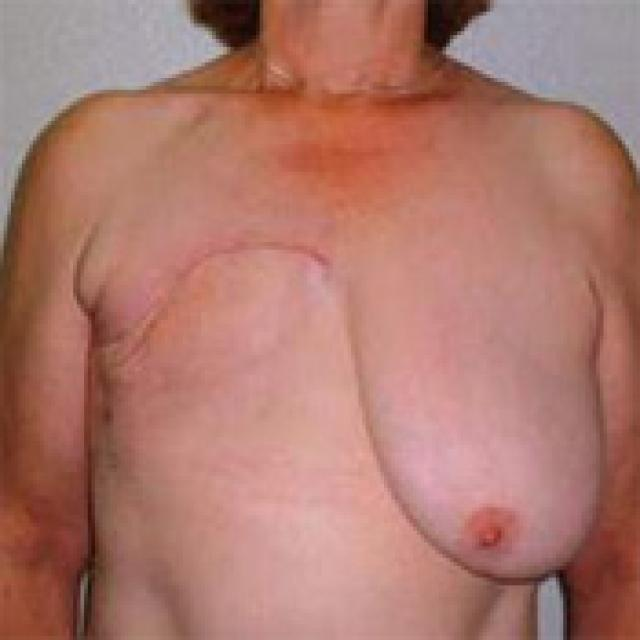Seno herido: (81, 221, 335, 430)
Seno ileso: (338, 248, 610, 614)
